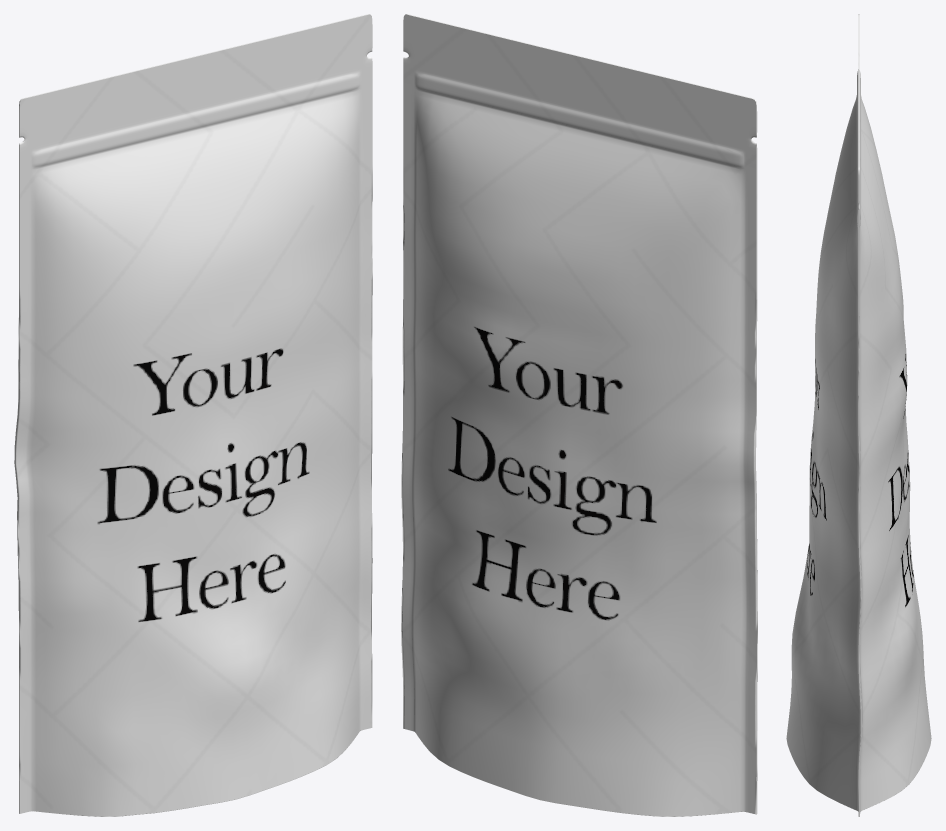
Rendered from Zip lock Pouches.glb.
3 renders of one model, left to right at view 1: azimuth 30°, elevation 25°; view 2: azimuth 150°, elevation 25°; view 3: azimuth 270°, elevation 25°, orthographic. The views are drawn at different scales.
Parts seen in each view (by area): view 1: ATR001; view 2: ATR001; view 3: ATR001.
Part boxes in pixels (x1,y1,x2,y2): ATR001: (14,14,372,816); ATR001: (401,14,757,816); ATR001: (786,14,931,816).
Size of the model in its own units: 0.1615 by 0.3102 by 0.063.
Materials: 1 (1 with a texture image).
